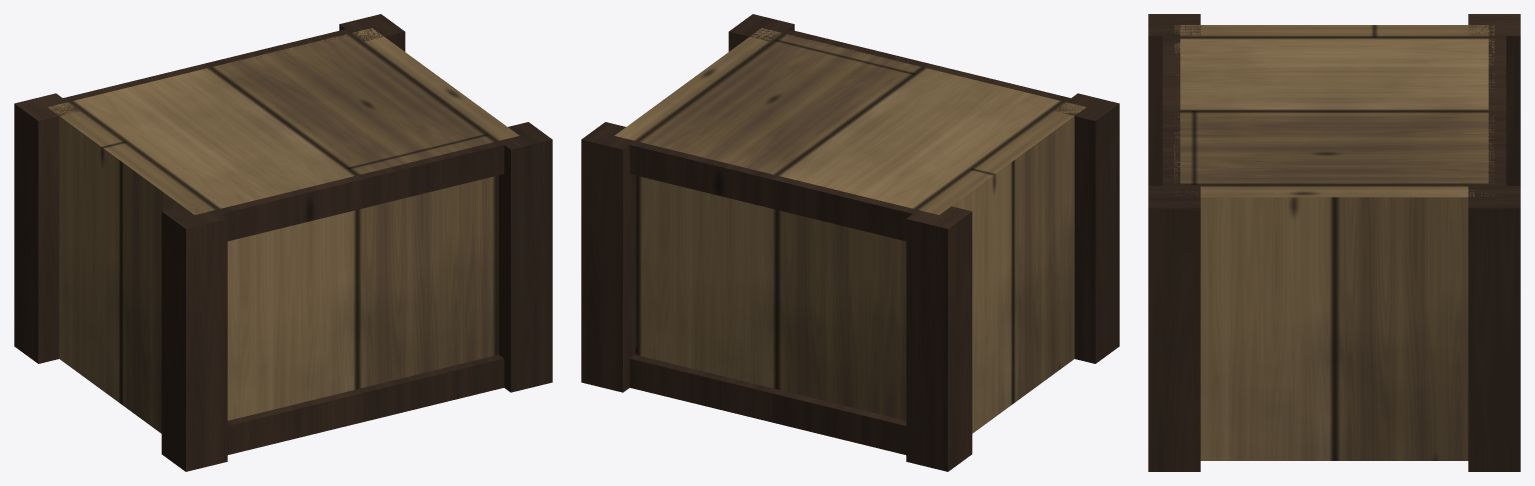
File: crate.gltf
The picture shows the model from 3 angles, left to right: view 1: azimuth 30°, elevation 25°; view 2: azimuth 150°, elevation 25°; view 3: azimuth 270°, elevation 25°; orthographic projection. The views are drawn at different scales.
Parts seen in each view (by area): view 1: crate_mesh; view 2: crate_mesh; view 3: crate_mesh.
Part boxes in pixels (left/top/right/bottom): crate_mesh: left=14, top=14, right=552, bottom=471; crate_mesh: left=581, top=14, right=1119, bottom=471; crate_mesh: left=1148, top=14, right=1520, bottom=471.
Size of what is drawn, in the model's own units: 0.79 by 0.5 by 0.64.
2 materials, 2 textured.
